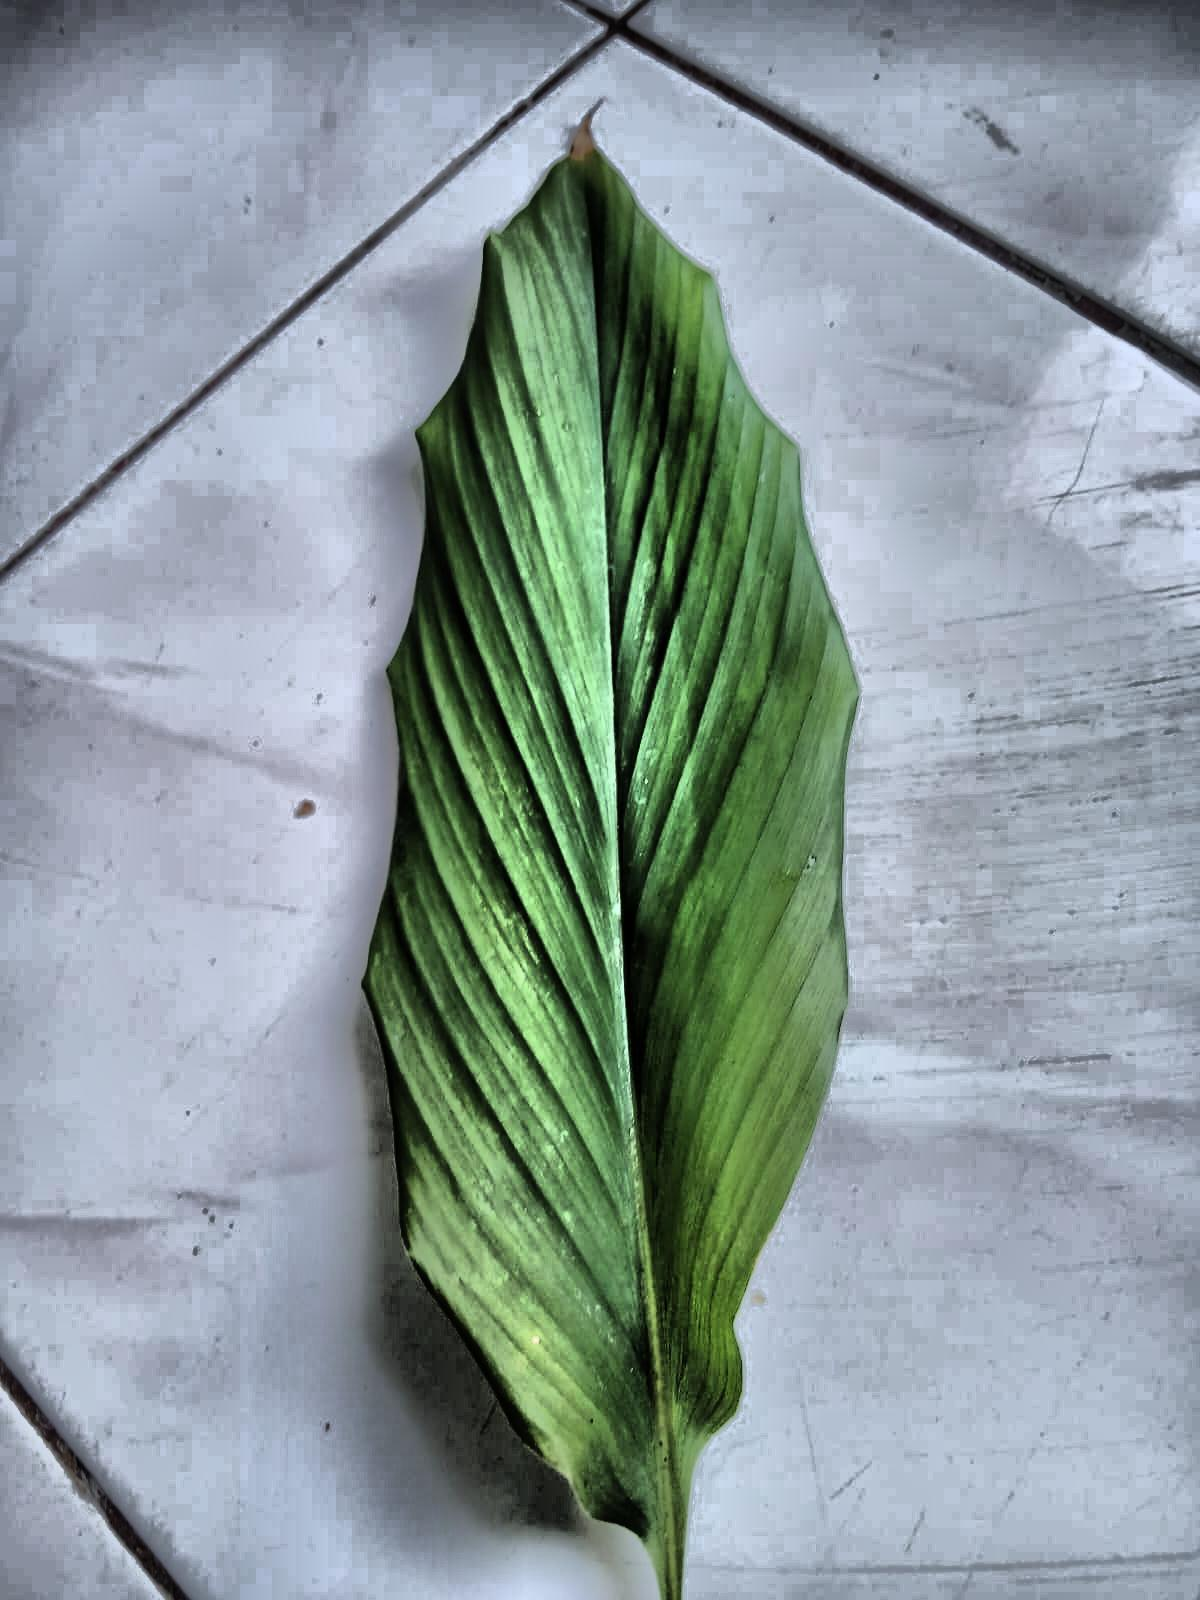daun kunyit: (364, 145, 856, 1599)
